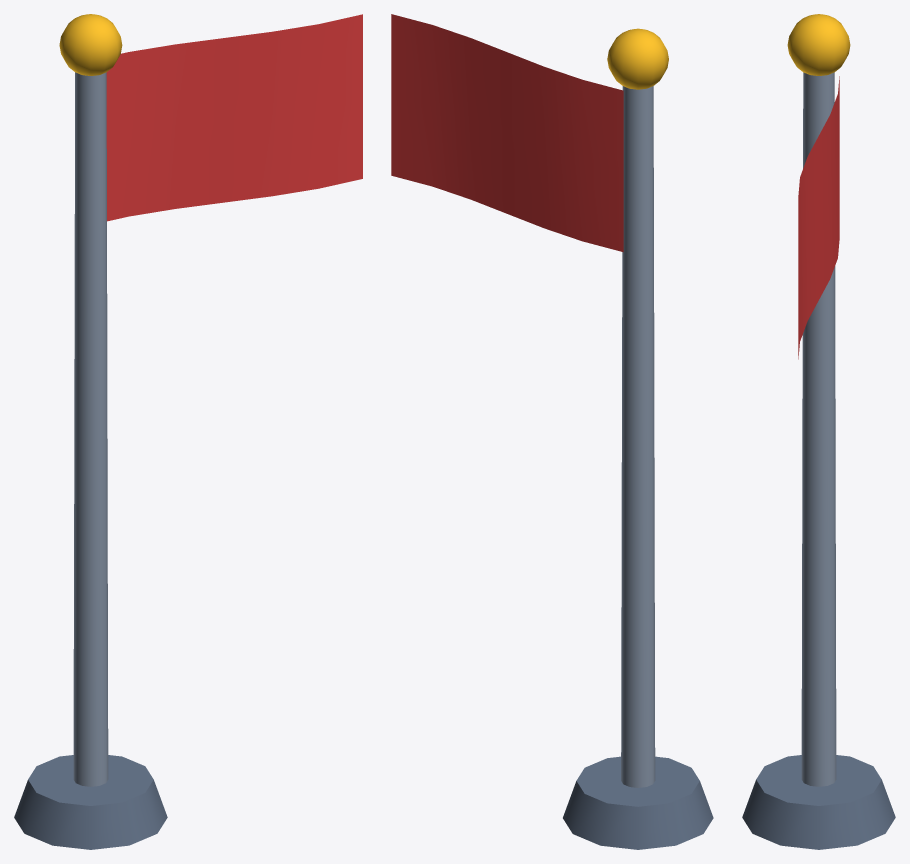
Rendered from station_flag.glb.
3 renders of one model, left to right at view 1: azimuth 30°, elevation 25°; view 2: azimuth 150°, elevation 25°; view 3: azimuth 270°, elevation 25°, orthographic.
Parts seen in each view (by area): view 1: flag_cloth, station_flag; view 2: flag_cloth, station_flag; view 3: station_flag, flag_cloth.
Part boxes in pixels (<box>): flag_cloth: <box>106,14,362,221</box>; station_flag: <box>14,14,167,849</box>; flag_cloth: <box>391,14,623,252</box>; station_flag: <box>563,28,713,849</box>; station_flag: <box>742,14,895,849</box>; flag_cloth: <box>798,76,839,359</box>.
Bounding box in the file's own units: 1.09 × 2.53 × 0.44.
